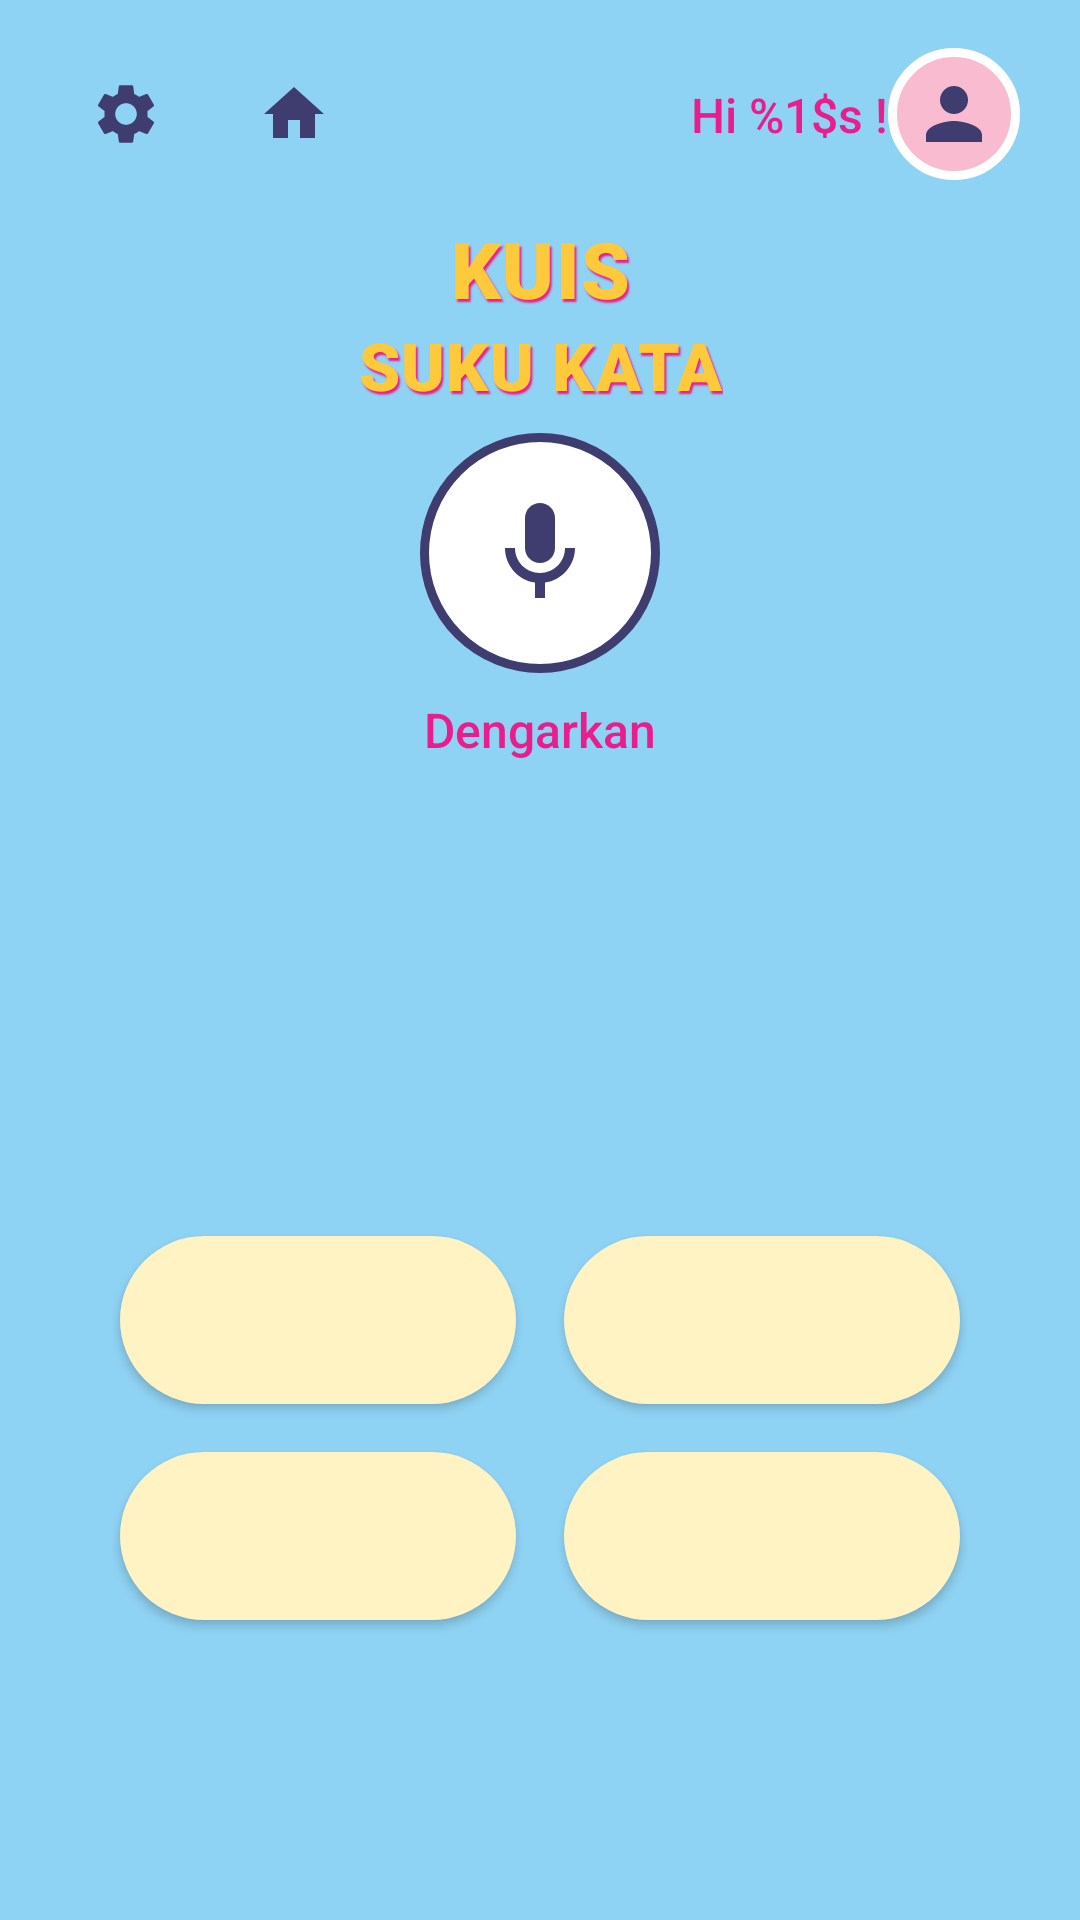

Icon click points for this 1080px×1920px phone screenshot, format point (x, y):
Pengaturan: point (126, 114)
person: point (954, 114)
